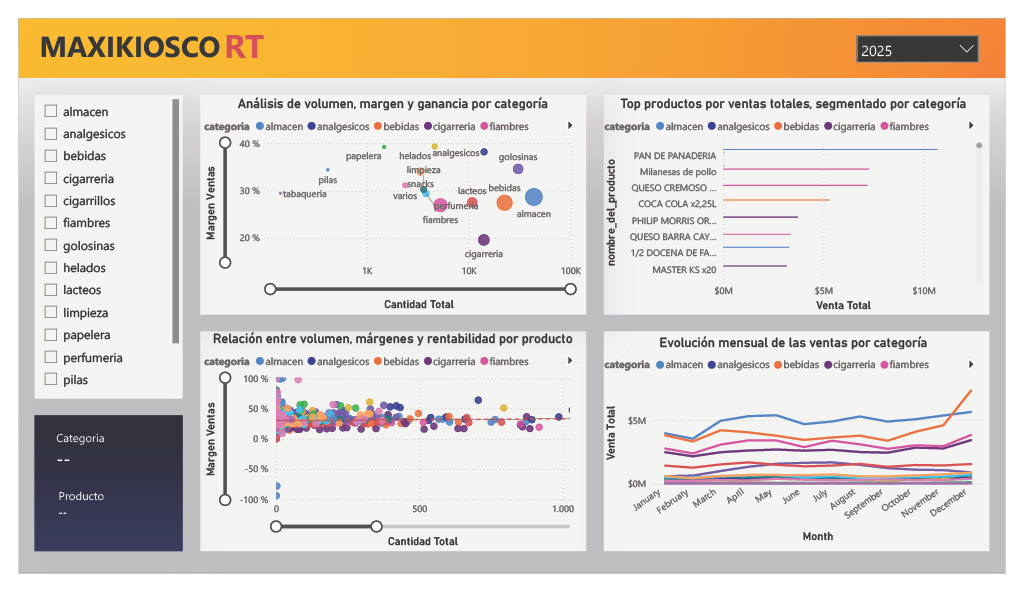

What the dashboard file says about the page in this screenshot:
{"tool":"powerbi","page":{"name":"Dashboard de productos","canvas":[1280,720],"ordinal":1},"visuals":[{"type":"scatterChart","title":"Relación entre volumen, márgenes y rentabilidad por producto","fields":{"Series":["dim_categoria.categoria"],"Y":["medidas.Margen Ventas"],"X":["medidas.Cantidad Total"],"Category":["dim_producto.nombre_del_producto"]},"box":[236.2,405,498.8,286.2],"z":0},{"type":"slicer","fields":{"Values":["dim_categoria.categoria"]},"box":[21.4,100,191.4,392.9],"z":1000},{"type":"scatterChart","title":"Análisis de volumen, margen y ganancia por categoría","fields":{"X":["medidas.Cantidad Total"],"Category":["dim_categoria.categoria"],"Series":["dim_categoria.categoria"],"Y":["medidas.Margen Ventas"],"Size":["medidas.Ganancia Total"]},"box":[236.2,100,498.8,282.5],"z":2000},{"type":"clusteredBarChart","title":"Top productos por ventas totales, segmentado por categoría","fields":{"Category":["dim_producto.nombre_del_producto"],"Series":["dim_categoria.categoria"],"Y":["medidas.Venta Total"]},"box":[755,100,500,285],"z":3000},{"type":"lineChart","title":"Evolución mensual de las ventas por categoría","fields":{"Category":["dim_fecha.fecha.Variation.Date Hierarchy.Month"],"Series":["dim_categoria.categoria"],"Y":["medidas.Venta Total"]},"box":[755,410,500,275],"z":4000},{"type":"slicer","fields":{"Values":["dim_fecha.fecha.Variation.Date Hierarchy.Year"]},"box":[1076.7,11.7,178.3,60],"z":5000},{"type":"textbox","box":[21.7,5,255,71.7],"z":6000},{"type":"textbox","box":[261.7,0,190,198.3],"z":7000},{"type":"cardVisual","fields":{"Data":["medidas.Categoria"]},"box":[20,513.3,191.7,91.7],"z":8000},{"type":"cardVisual","fields":{"Data":["medidas.Producto titulo"]},"box":[23.3,588.3,191.7,80],"z":9000}]}

Visuals, with their boxes in screenshot pixels (x1, y1, x2, y2), scaled from the page's 1280x720 canvas onto the 1024x592 screenshot:
"Relación entre volumen, márgenes y rentabilidad por producto" scatterChart: rect(189, 333, 588, 568)
slicer - dim_categoria.categoria: rect(17, 82, 170, 405)
"Análisis de volumen, margen y ganancia por categoría" scatterChart: rect(189, 82, 588, 314)
"Top productos por ventas totales, segmentado por categoría" clusteredBarChart: rect(604, 82, 1004, 317)
"Evolución mensual de las ventas por categoría" lineChart: rect(604, 337, 1004, 563)
slicer - dim_fecha.fecha.Variation.Date Hierarchy.Year: rect(861, 10, 1004, 59)
textbox: rect(17, 4, 221, 63)
textbox: rect(209, 0, 361, 163)
cardVisual - medidas.Categoria: rect(16, 422, 169, 497)
cardVisual - medidas.Producto titulo: rect(19, 484, 172, 549)
